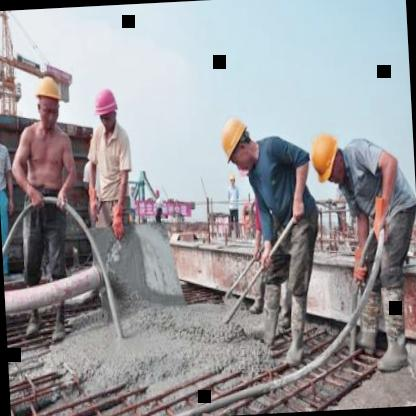helmet: (214, 108, 260, 176), (304, 126, 347, 188), (31, 72, 65, 128), (91, 82, 120, 136)
